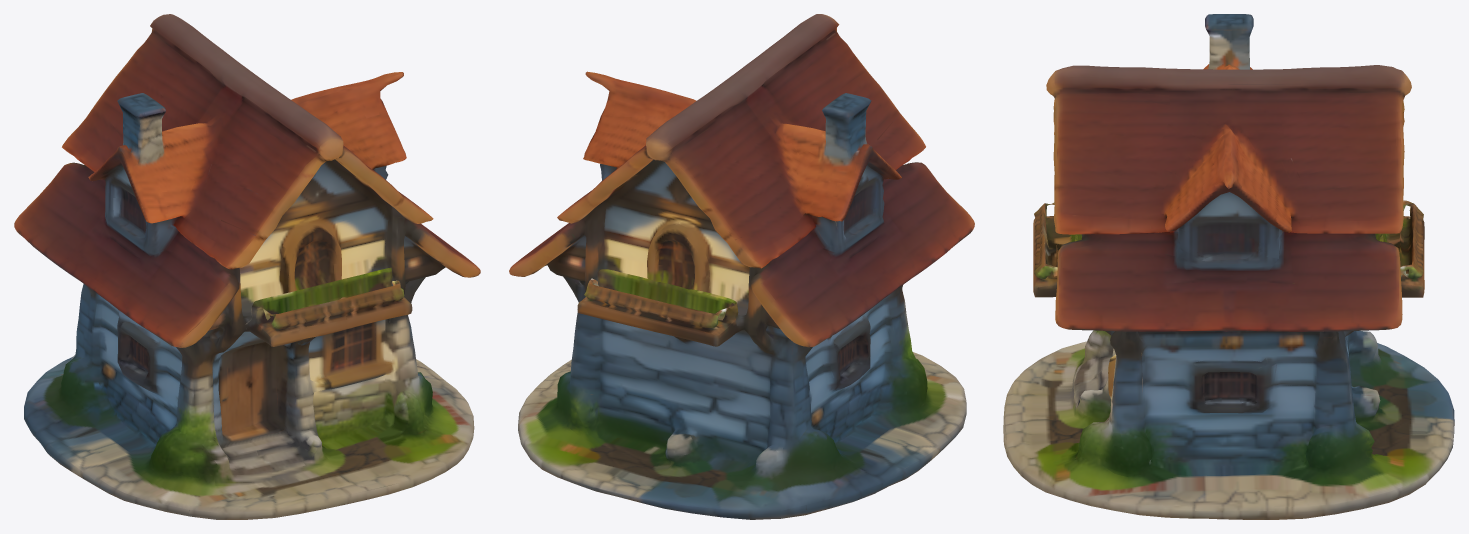
The model's file is base_basic_shaded.fbx.
3 renders of one model, left to right at view 1: azimuth 30°, elevation 25°; view 2: azimuth 150°, elevation 25°; view 3: azimuth 270°, elevation 25°, orthographic. The views are drawn at different scales.
Parts seen in each view (by area): view 1: model; view 2: model; view 3: model.
Boxes of the visible parts, <box> form: model: <box>14,14,480,519</box>; model: <box>509,14,974,519</box>; model: <box>1003,14,1454,519</box>.
Bounding box in the file's own units: 161 × 160 × 166.
